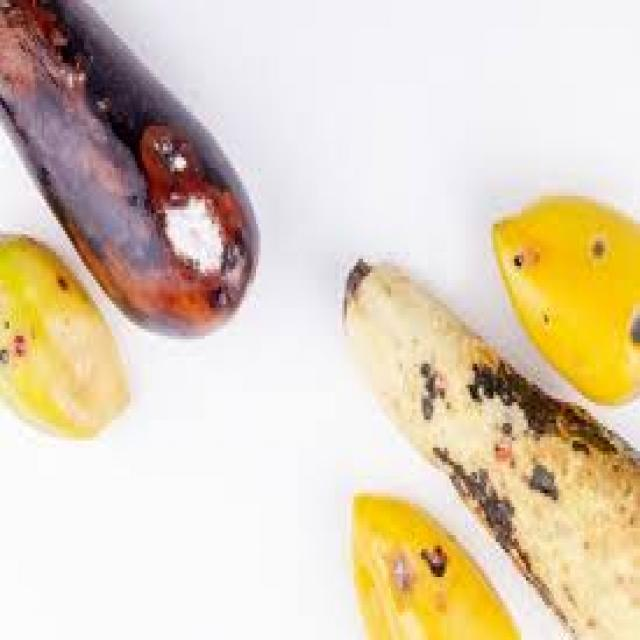organic waste: (340, 259, 638, 636), (0, 0, 256, 332), (491, 196, 638, 399), (344, 489, 516, 636), (0, 231, 126, 430)
